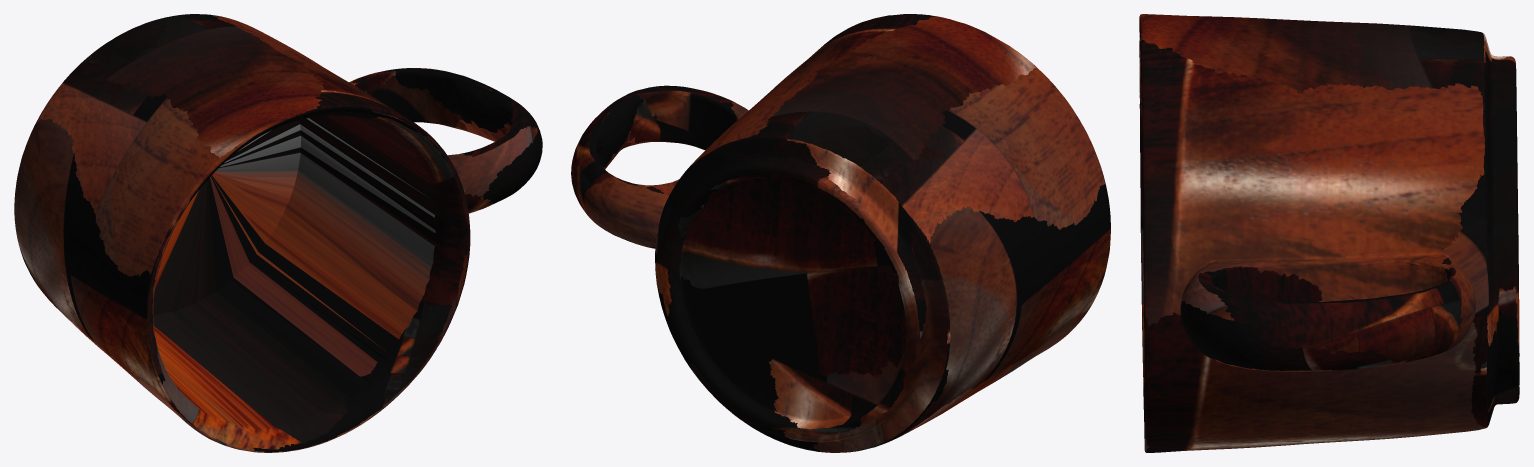
The picture shows the model from 3 angles, left to right: view 1: azimuth 30°, elevation 25°; view 2: azimuth 150°, elevation 25°; view 3: azimuth 270°, elevation 25°; orthographic projection. The views are drawn at different scales.
Visible parts, largest first — view 1: 20200901_3_beizi2; view 2: 20200901_3_beizi2; view 3: 20200901_3_beizi2.
Boxes of the visible parts, left/top/right/bottom form: 20200901_3_beizi2: left=14, top=14, right=542, bottom=452; 20200901_3_beizi2: left=571, top=14, right=1110, bottom=452; 20200901_3_beizi2: left=1139, top=14, right=1519, bottom=452.
Bounding box in the file's own units: 110 × 80.24 × 69.42.
